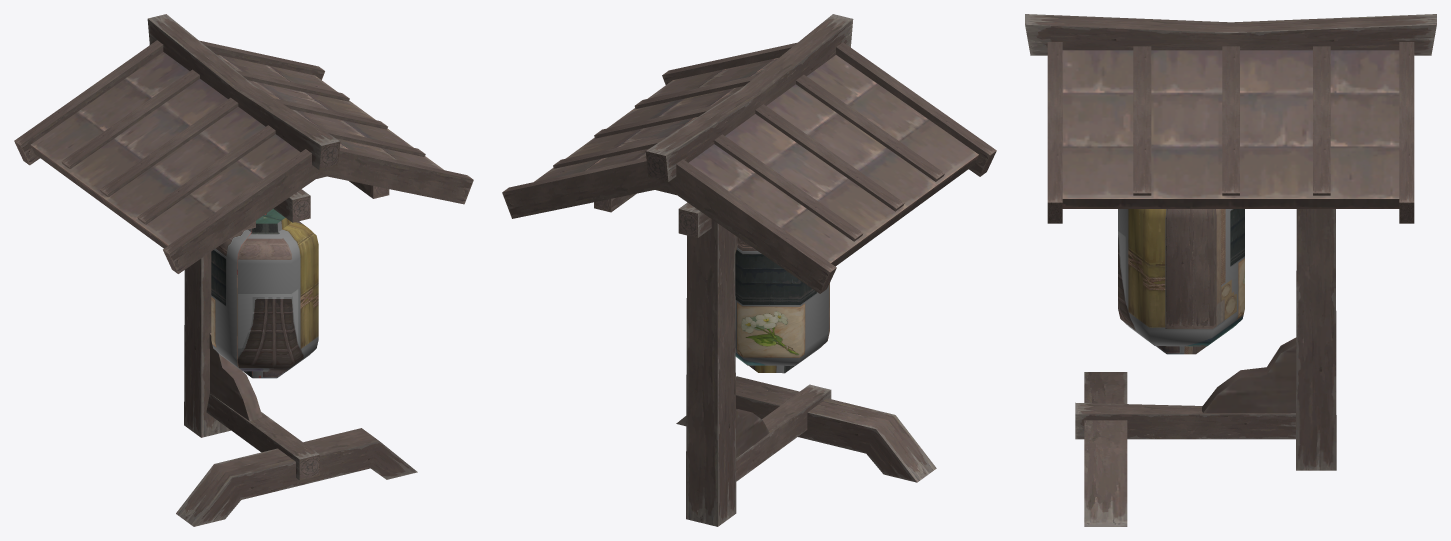
Rendered from Homeworld_Exterior_Dq_Lamp_Woodenlamp_01_Vo.fbx.
The picture shows the model from 3 angles, left to right: view 1: azimuth 30°, elevation 25°; view 2: azimuth 150°, elevation 25°; view 3: azimuth 270°, elevation 25°; orthographic projection. The views are drawn at different scales.
Parts seen in each view (by area): view 1: Area_Dq_Light_MS_Woodenlamp_02_Vo; view 2: Area_Dq_Light_MS_Woodenlamp_02_Vo; view 3: Area_Dq_Light_MS_Woodenlamp_02_Vo.
Boxes of the visible parts, x1,y1,x2,y2 form: Area_Dq_Light_MS_Woodenlamp_02_Vo: (14,14,473,526); Area_Dq_Light_MS_Woodenlamp_02_Vo: (502,14,996,526); Area_Dq_Light_MS_Woodenlamp_02_Vo: (1025,14,1436,526).
Size of the model in its own units: 1.37 by 1.6 by 1.35.
